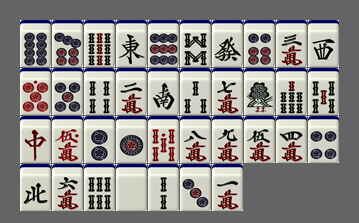0m: (52, 116, 83, 163)
0p: (20, 68, 51, 115)
0s: (148, 116, 179, 163)
1m: (212, 164, 243, 211)
1p: (116, 116, 147, 163)
1s: (244, 68, 275, 115)
1z: (116, 20, 147, 67)
2m: (116, 68, 147, 115)
2p: (84, 116, 115, 163)
2s: (148, 164, 179, 211)
2z: (148, 68, 179, 115)
3m: (276, 20, 307, 67)
3p: (180, 164, 211, 211)
3s: (180, 68, 211, 115)
3z: (308, 20, 339, 67)
4m: (276, 116, 307, 163)
4p: (308, 116, 339, 163)
4s: (84, 68, 115, 115)
4z: (20, 164, 51, 211)
5m: (244, 116, 275, 163)
5p: (52, 68, 83, 115)
5s: (308, 68, 339, 115)
5z: (116, 164, 147, 211)
6m: (52, 164, 83, 211)
6p: (244, 20, 275, 67)
6s: (84, 164, 115, 211)
6z: (212, 20, 243, 67)
7m: (212, 68, 243, 115)
7p: (52, 20, 83, 67)
7s: (276, 68, 307, 115)
7z: (20, 116, 51, 163)
8m: (180, 116, 211, 163)
8p: (20, 20, 51, 67)
8s: (180, 20, 211, 67)
9m: (212, 116, 243, 163)
9p: (148, 20, 179, 67)
9s: (84, 20, 115, 67)
